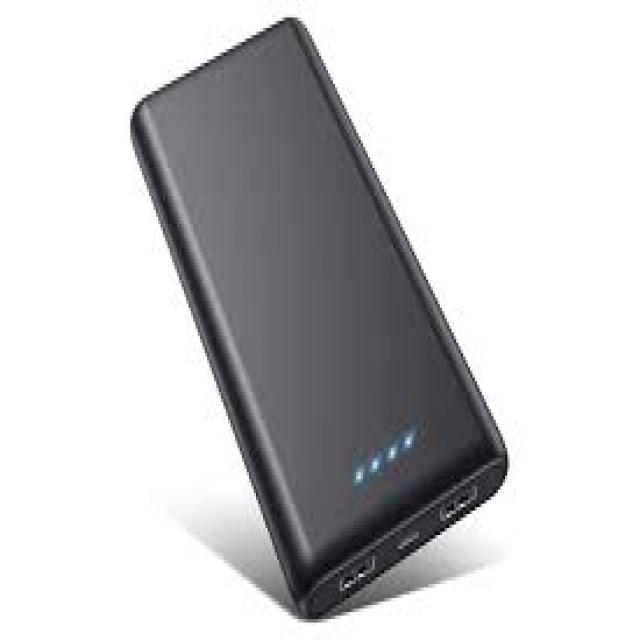portable-charger: (128, 22, 514, 621)
